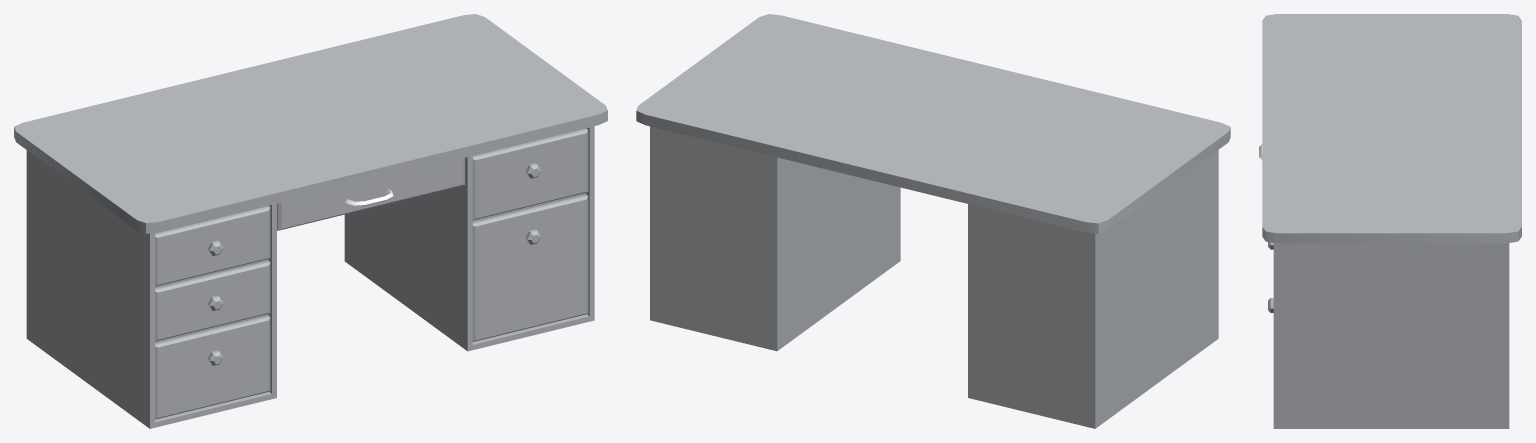
Rendered from SM_desk_office_01.fbx.
3 renders of one model, left to right at view 1: azimuth 30°, elevation 25°; view 2: azimuth 150°, elevation 25°; view 3: azimuth 270°, elevation 25°, orthographic. The views are drawn at different scales.
Parts seen in each view (by area): view 1: Box001; view 2: Box001; view 3: Box001.
Part boxes in pixels (x1=…): Box001: x1=14, y1=14, x2=607, y2=428; Box001: x1=636, y1=14, x2=1230, y2=428; Box001: x1=1259, y1=14, x2=1521, y2=428.
Bounding box in the file's own units: 83.64 × 35.9 × 42.39.
